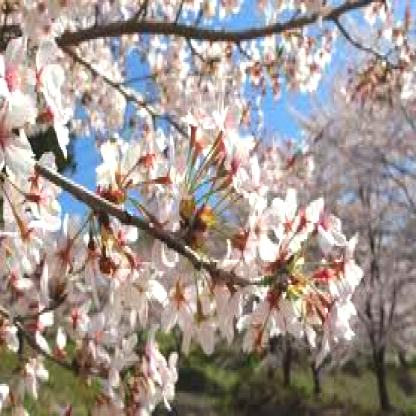Someiyoshino: (0, 2, 414, 412)
